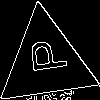P: (21, 36, 68, 76)
